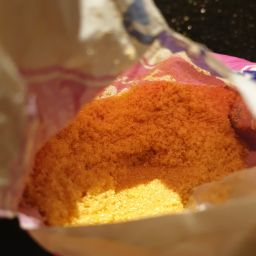Brown Sugar: (76, 108, 233, 172), (41, 145, 199, 207), (132, 90, 203, 197)
